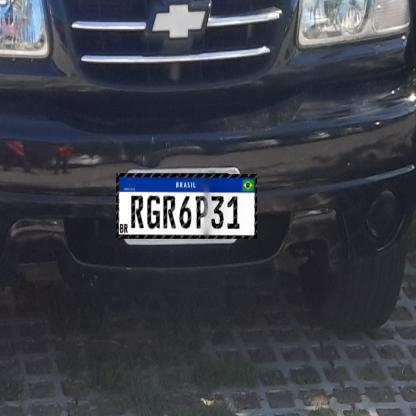PlacaM: (116, 173, 257, 239)
